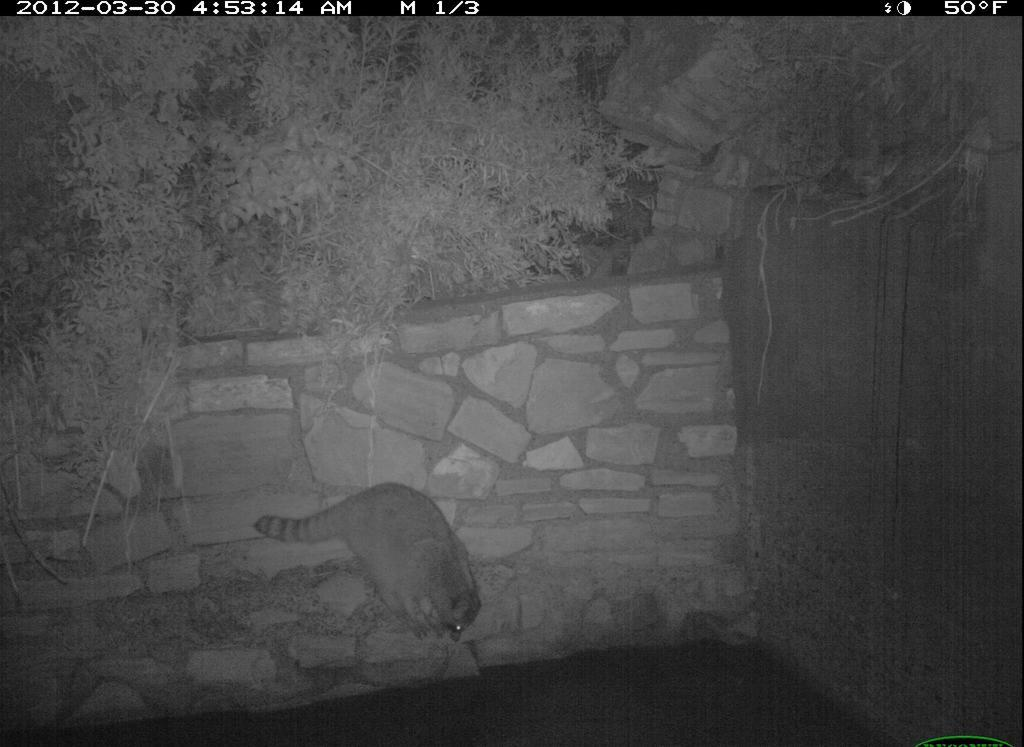raccoon: (246, 473, 514, 655)
